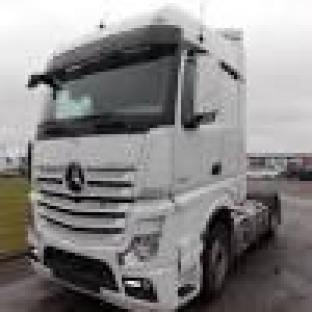Vehicle: (30, 30, 290, 311)
